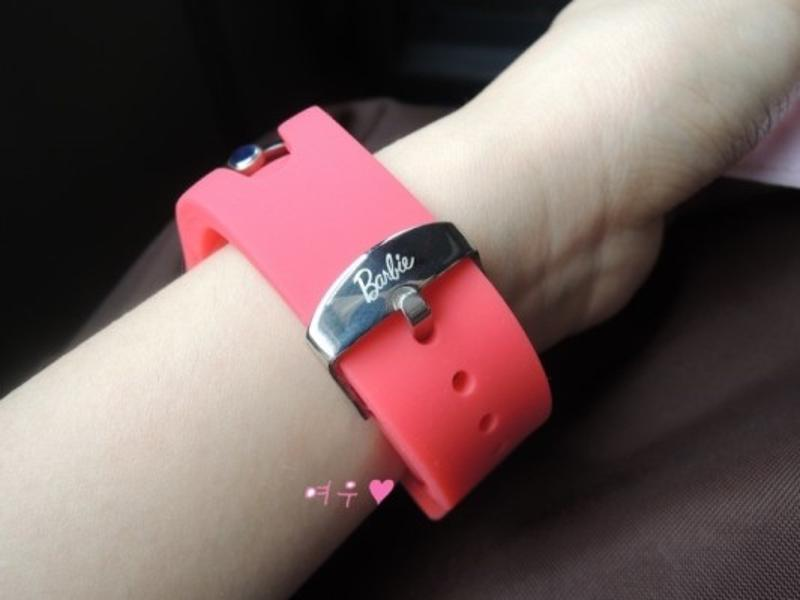watch: (171, 105, 553, 519)
